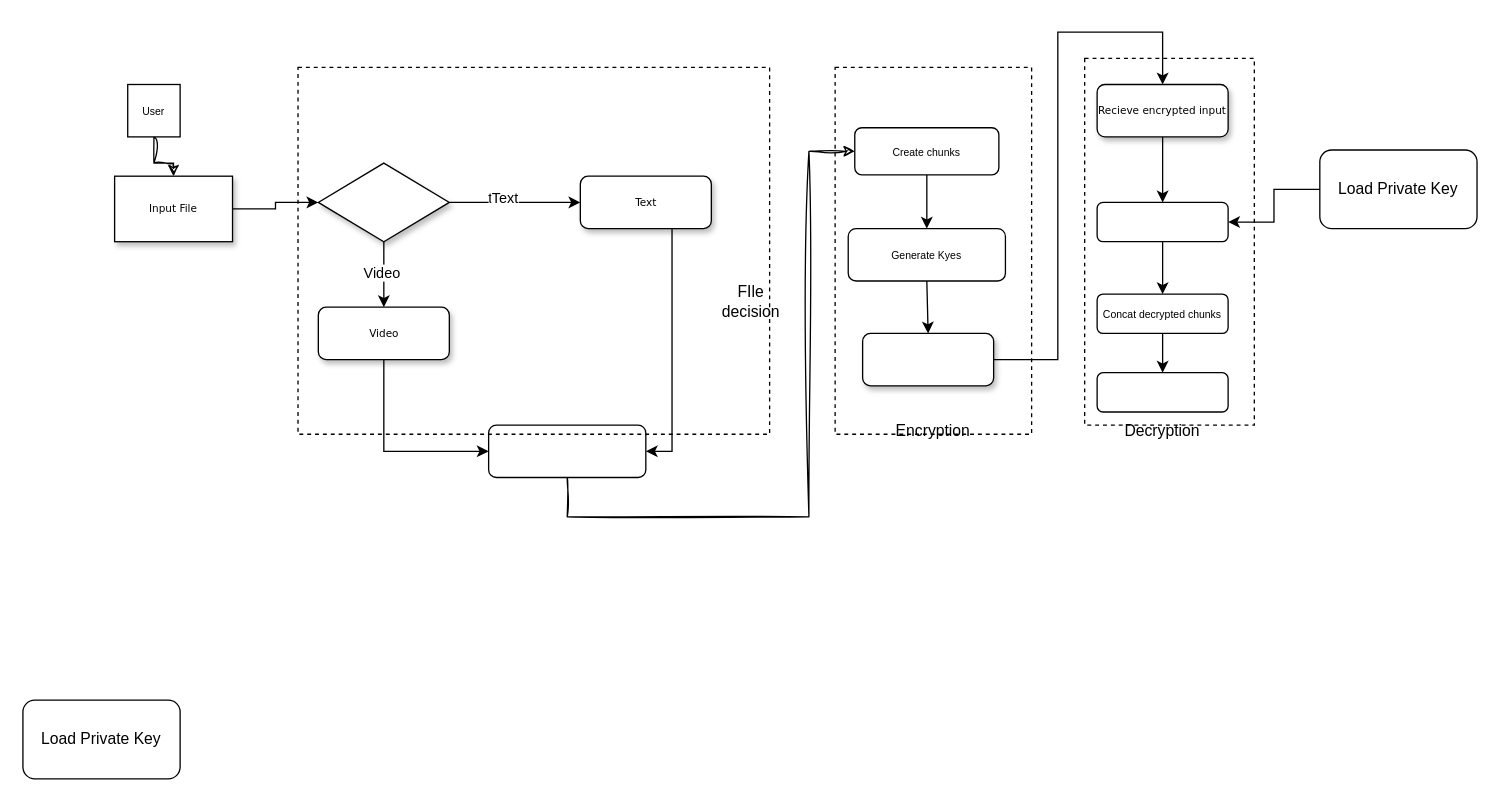
This 1500x802 diagram has some shape labels left out. Here are the shapes that lost their labels. From the top down, the centre of each, then its label:
point 384,204: Check for Video/Text
point 1162,221: Decrypt encrypted input
point 928,361: Encrypt and Send
point 1162,391: Final output
point 566,450: Load public key of reciever
